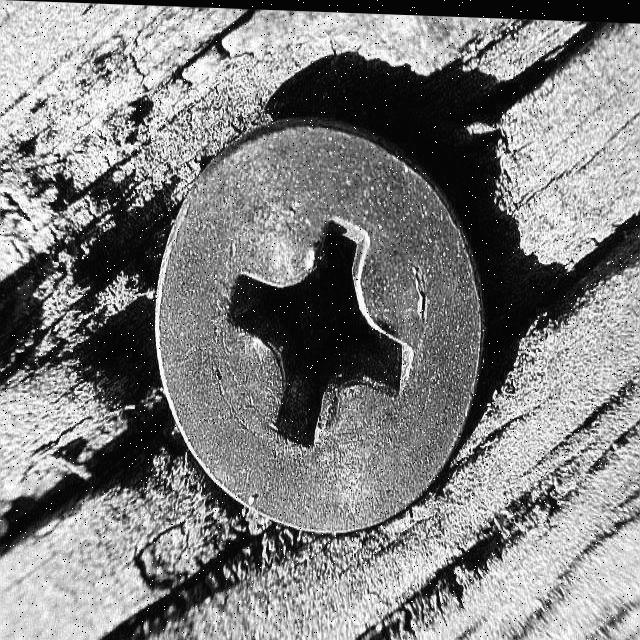Phillips: (156, 124, 481, 540)
